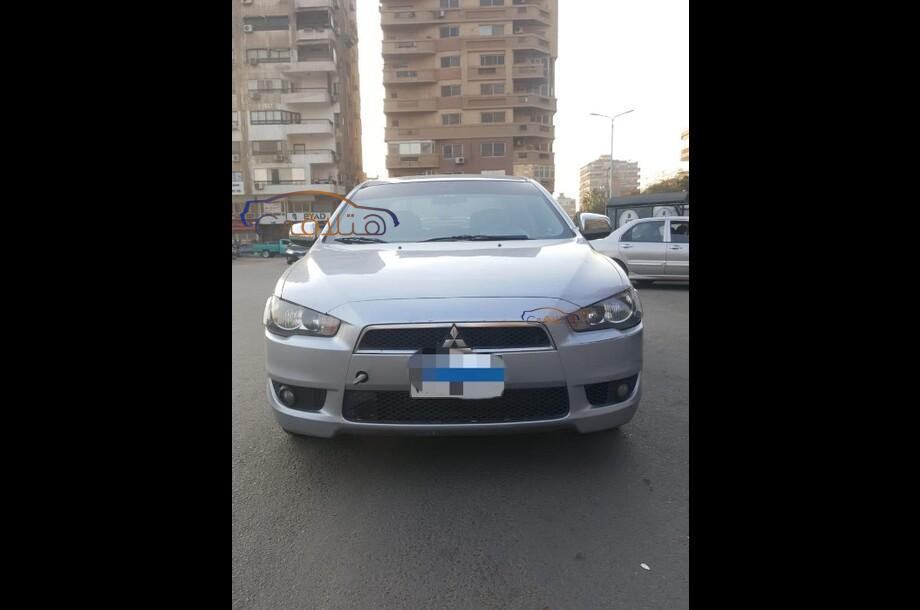Mitsubishi: (436, 323, 483, 356)
